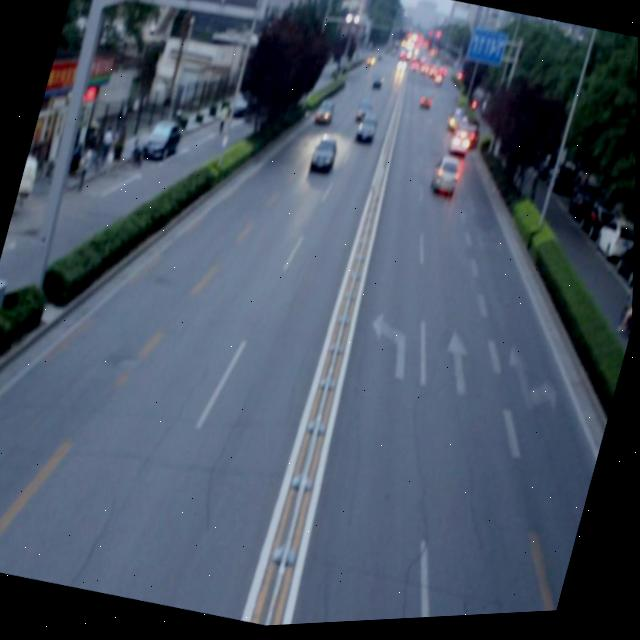car: (428, 154, 463, 201), (308, 134, 340, 179)
